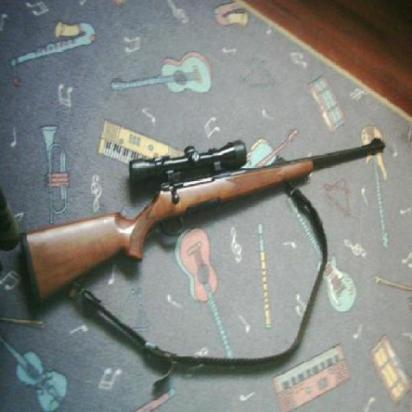Gun: (21, 137, 384, 316)
